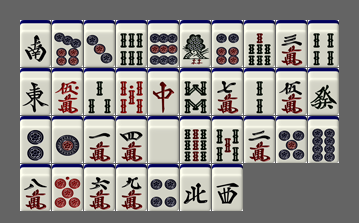0m: (52, 68, 83, 115)
0p: (52, 164, 83, 211)
0s: (116, 68, 147, 115)
1m: (84, 116, 115, 163)
1p: (52, 116, 83, 163)
1s: (180, 20, 211, 67)
1z: (20, 68, 51, 115)
2m: (244, 116, 275, 163)
2p: (20, 116, 51, 163)
2s: (244, 68, 275, 115)
2z: (20, 20, 51, 67)
3m: (276, 20, 307, 67)
3p: (84, 20, 115, 67)
3s: (84, 68, 115, 115)
3z: (212, 164, 243, 211)
4m: (116, 116, 147, 163)
4p: (148, 164, 179, 211)
4s: (308, 20, 339, 67)
4z: (180, 164, 211, 211)
5m: (276, 68, 307, 115)
5p: (276, 116, 307, 163)
5s: (212, 116, 243, 163)
5z: (148, 116, 179, 163)
6m: (84, 164, 115, 211)
6p: (212, 20, 243, 67)
6s: (116, 20, 147, 67)
6z: (308, 68, 339, 115)
7m: (212, 68, 243, 115)
7p: (52, 20, 83, 67)
7s: (244, 20, 275, 67)
7z: (148, 68, 179, 115)
8m: (20, 164, 51, 211)
8p: (308, 116, 339, 163)
8s: (180, 68, 211, 115)
9m: (116, 164, 147, 211)
9p: (148, 20, 179, 67)
9s: (180, 116, 211, 163)
